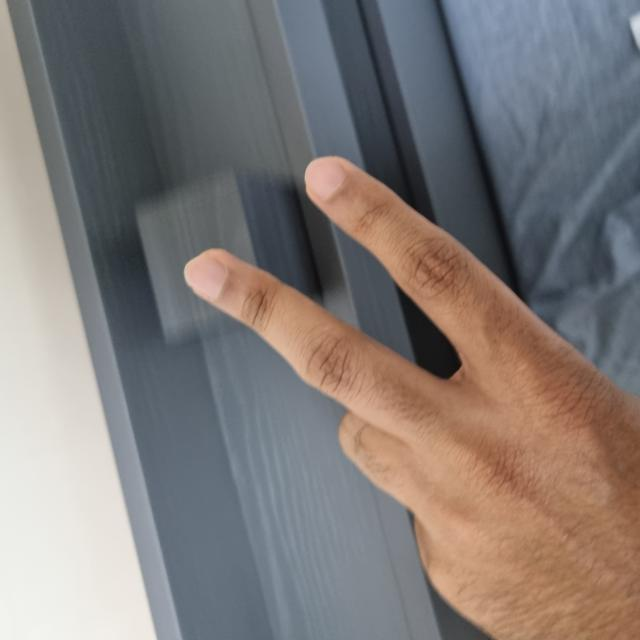Scissors: (0, 188, 482, 639)
